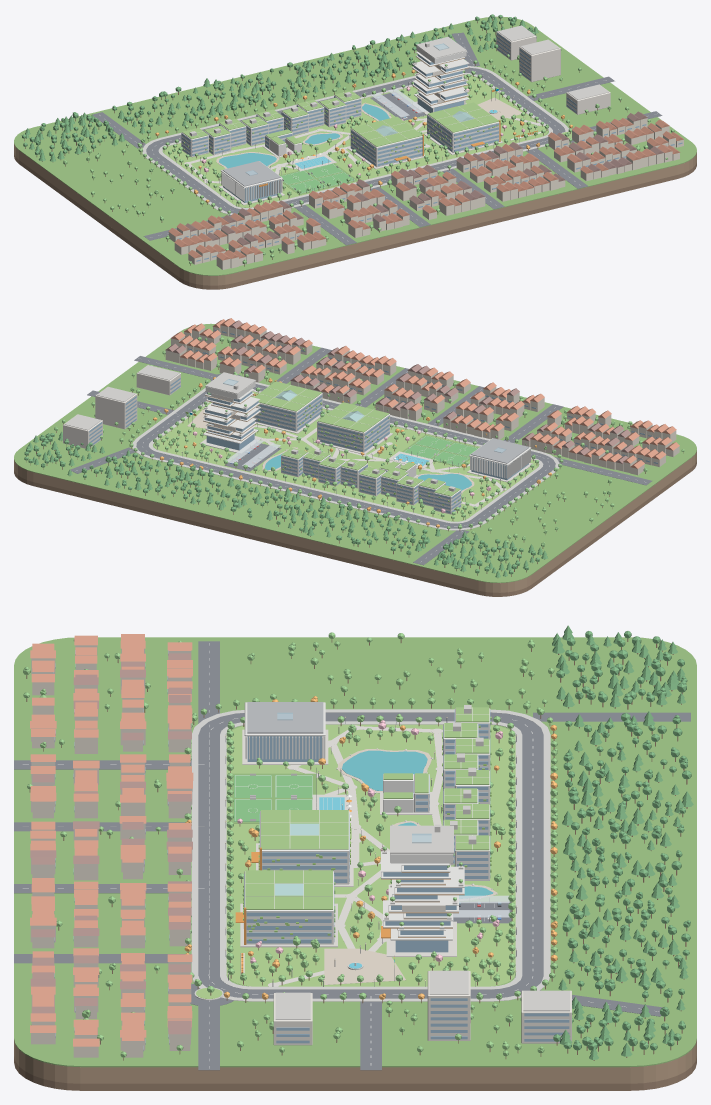
File: campus.glb
3 renders of one model, top to bottom at view 1: azimuth 30°, elevation 25°; view 2: azimuth 150°, elevation 25°; view 3: azimuth 270°, elevation 25°, orthographic. The views are drawn at different scales.
Visible parts, largest first — view 1: BASE, NEIGHBOURHOOD, TREES_foliage, ROADS, BLD_A_body, BLD_B_body, BLD_C_body, BLD_D_body, BLD_E_body, BLD_F_body, BLD_H_body, TREES_trunks (+7 smaller); view 2: BASE, NEIGHBOURHOOD, TREES_foliage, ROADS, BLD_A_body, BLD_B_body, BLD_D_body, BLD_C_body, BLD_E_body, BLD_F_body, TREES_trunks, BLD_H_body (+3 smaller); view 3: BASE, NEIGHBOURHOOD, TREES_foliage, ROADS, BLD_A_body, BLD_C_body, BLD_B_body, BLD_F_body, BLD_D_body, WALKWAYS, BLD_E_body, BLD_H_body (+6 smaller).
Part boxes in pixels (<box>): BASE: <box>14,16,696,289</box>; NEIGHBOURHOOD: <box>168,25,683,269</box>; TREES_foliage: <box>21,14,674,264</box>; ROADS: <box>93,32,662,245</box>; BLD_A_body: <box>411,36,469,114</box>; BLD_B_body: <box>347,116,425,169</box>; BLD_C_body: <box>424,102,503,154</box>; BLD_D_body: <box>181,109,283,157</box>; BLD_E_body: <box>281,90,361,135</box>; BLD_F_body: <box>219,161,284,205</box>; BLD_H_body: <box>279,159,357,194</box>; TREES_trunks: <box>24,18,648,266</box>; BASE: <box>14,323,696,596</box>; NEIGHBOURHOOD: <box>63,318,679,475</box>; TREES_foliage: <box>24,337,684,577</box>; ROADS: <box>70,347,652,565</box>; BLD_A_body: <box>199,372,261,453</box>; BLD_B_body: <box>314,401,392,454</box>; BLD_D_body: <box>358,466,461,514</box>; BLD_C_body: <box>253,380,325,433</box>; BLD_E_body: <box>281,447,367,488</box>; BLD_F_body: <box>467,438,532,482</box>; TREES_trunks: <box>26,340,683,576</box>; BLD_H_body: <box>402,434,478,467</box>; BASE: <box>14,637,696,1090</box>; NEIGHBOURHOOD: <box>30,634,571,1057</box>; TREES_foliage: <box>23,625,693,1059</box>; ROADS: <box>14,641,690,1070</box>; BLD_A_body: <box>381,824,464,956</box>; BLD_C_body: <box>235,870,337,947</box>; BLD_B_body: <box>251,810,353,886</box>; BLD_F_body: <box>242,702,328,764</box>; BLD_D_body: <box>442,705,491,807</box>; WALKWAYS: <box>268,725,442,986</box>; BLD_E_body: <box>442,788,491,880</box>; BLD_H_body: <box>230,768,316,823</box>.
Bounding box in the file's own units: 525 × 73.9 × 350.
